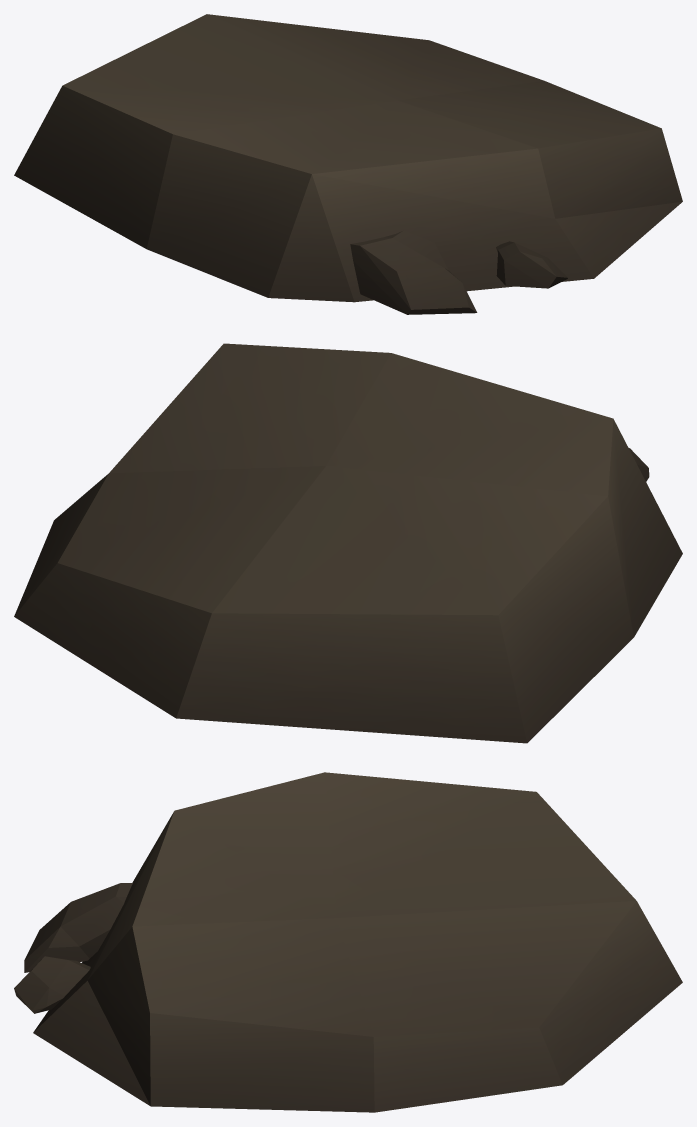
Rendered from LandMass_C.fbx.
3 views of the same model, one above another, from view 1: azimuth 30°, elevation 25°; view 2: azimuth 150°, elevation 25°; view 3: azimuth 270°, elevation 25° (orthographic). The views are drawn at different scales.
Visible parts, largest first — view 1: LandMass_C; view 2: LandMass_C; view 3: LandMass_C.
Part boxes in pixels (x1,y1,x2,y2): LandMass_C: (14,14,682,314); LandMass_C: (14,343,682,743); LandMass_C: (14,772,682,1112).
Size of the model in its own units: 1949 by 434 by 2219.
